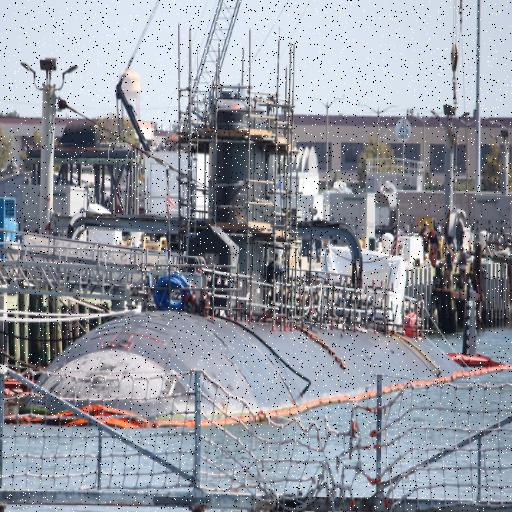submarine: (10, 96, 481, 419)
